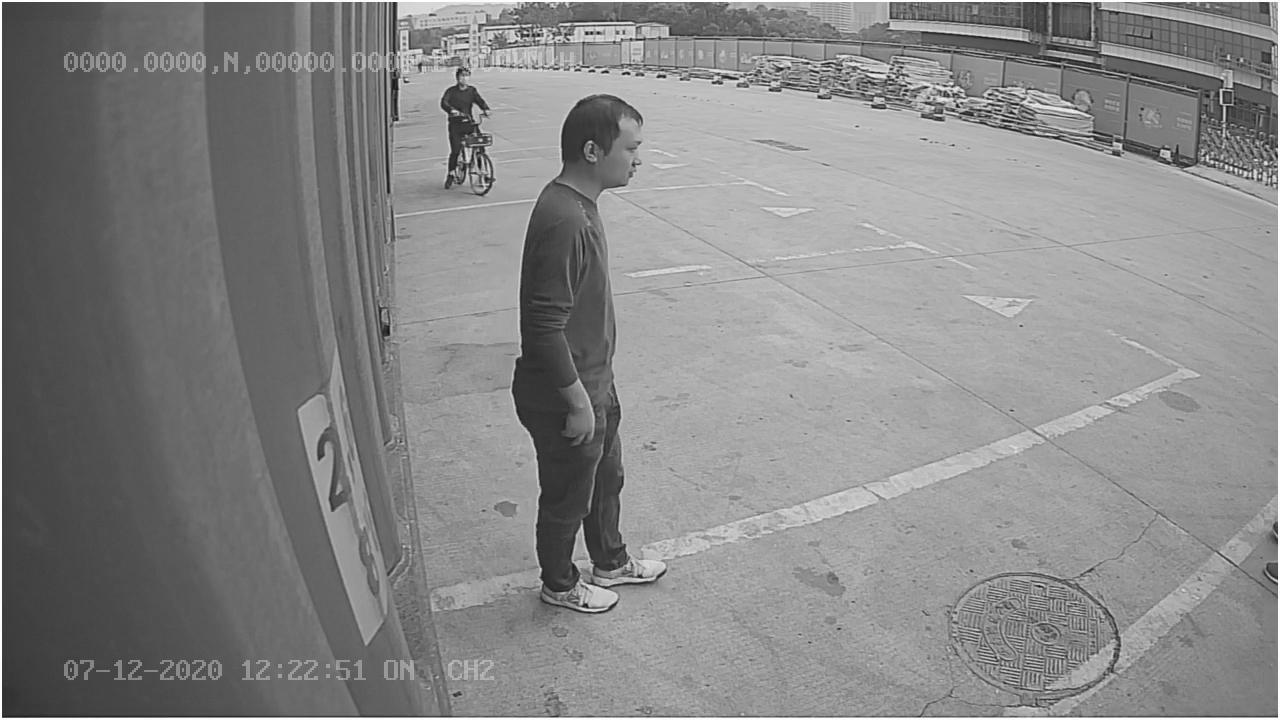person: (509, 88, 675, 617)
